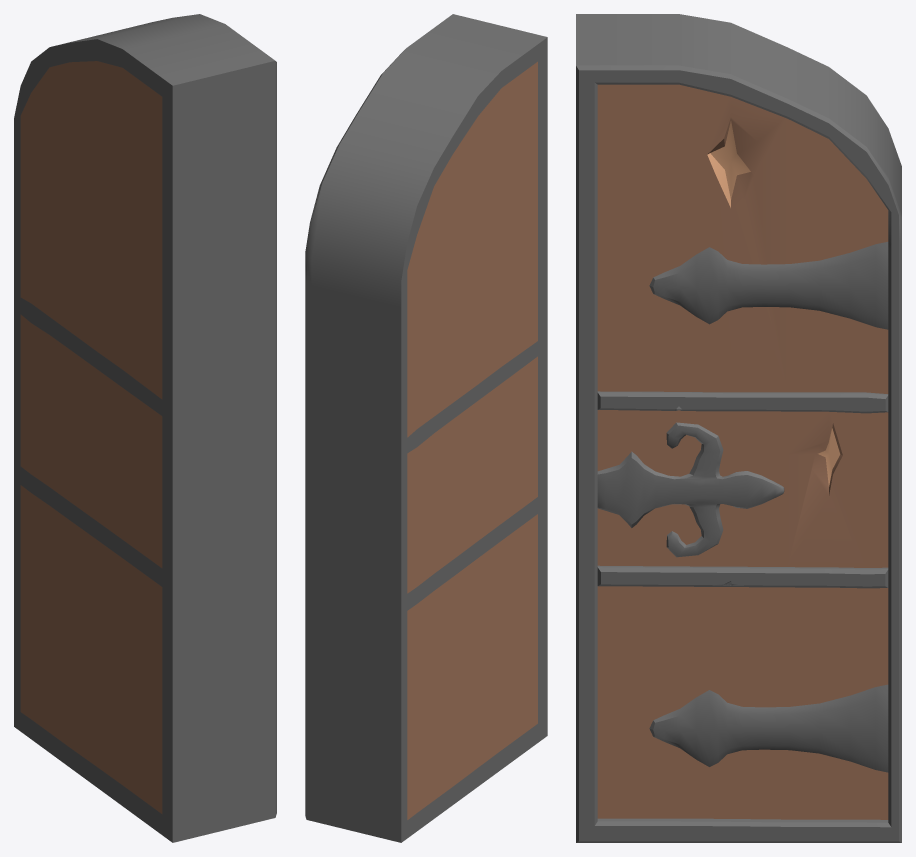
The model's file is BigDoor_01.fbx.
3 views of the same model, side by side, from view 1: azimuth 30°, elevation 25°; view 2: azimuth 150°, elevation 25°; view 3: azimuth 270°, elevation 25° (orthographic). The views are drawn at different scales.
Parts seen in each view (by area): view 1: Cube.025; view 2: Cube.025; view 3: Cube.025.
Boxes of the visible parts, bbox=[...] form: Cube.025: bbox=[14, 14, 276, 842]; Cube.025: bbox=[305, 14, 547, 842]; Cube.025: bbox=[576, 14, 901, 842].
Size of the model in its own units: 120 by 821 by 312.
